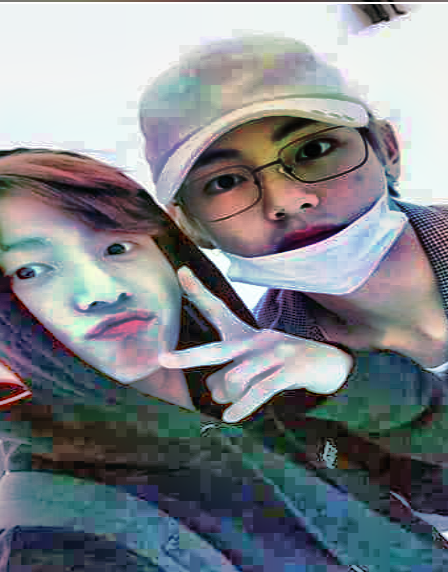mask_weared_incorrect: (143, 33, 397, 299)
